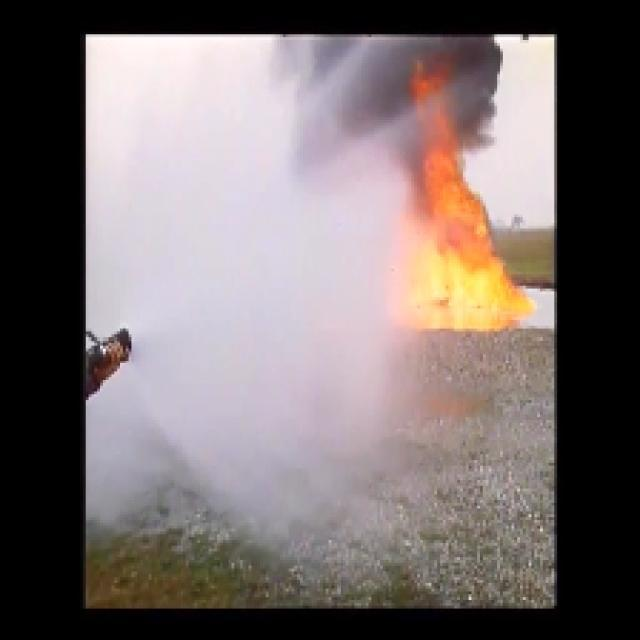Fire: (403, 137, 520, 332)
Smoke: (294, 37, 489, 134)
